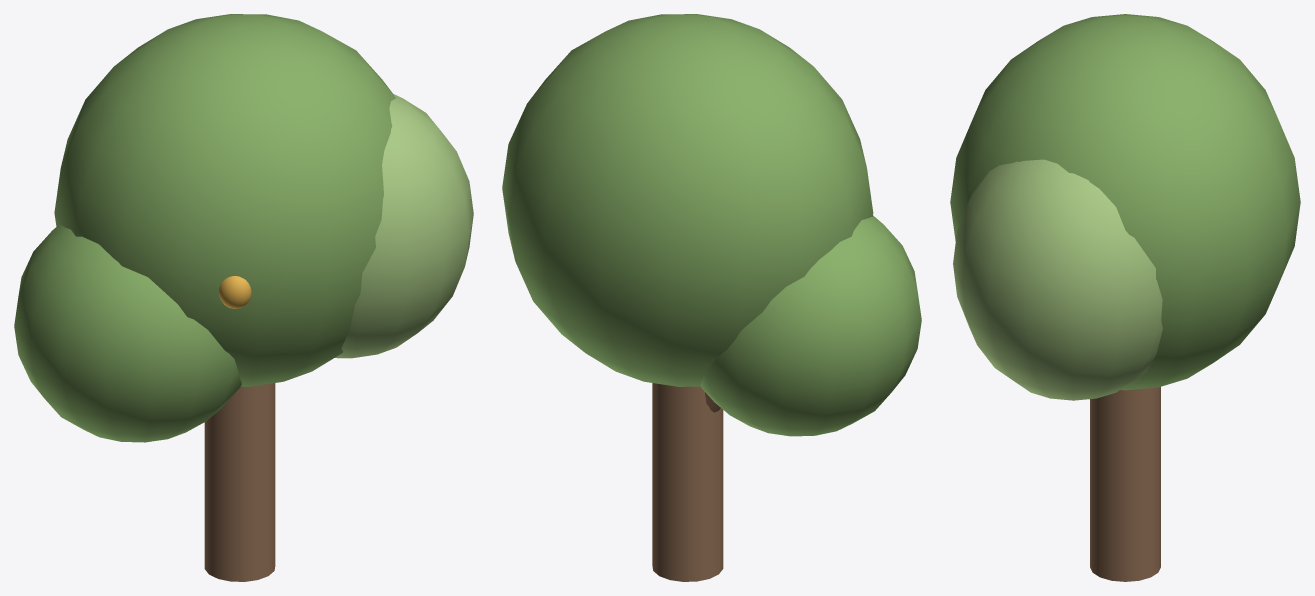
Rendered from bubble-tree.glb.
3 views of the same model, side by side, from view 1: azimuth 30°, elevation 25°; view 2: azimuth 150°, elevation 25°; view 3: azimuth 270°, elevation 25° (orthographic).
Visible parts, largest first — view 1: canopy, bubble-tree; view 2: canopy, bubble-tree; view 3: canopy, bubble-tree.
Part boxes in pixels (bbox=[...]): canopy: bbox=[14, 14, 473, 442]; bubble-tree: bbox=[204, 383, 275, 581]; canopy: bbox=[502, 14, 921, 436]; bubble-tree: bbox=[652, 383, 723, 581]; canopy: bbox=[950, 14, 1300, 400]; bubble-tree: bbox=[1090, 387, 1160, 581].
Bounding box in the file's own units: 1.71 × 2.16 × 1.28.
